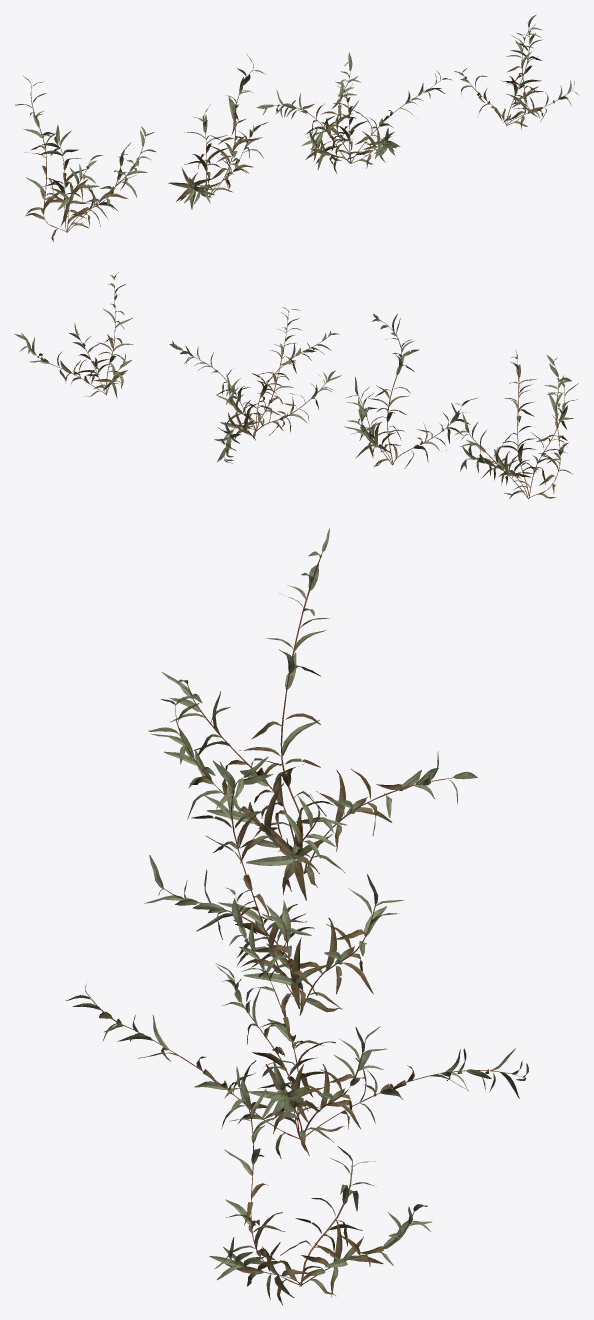
Rendered from shrub_02.glb.
3 renders of one model, top to bottom at view 1: azimuth 30°, elevation 25°; view 2: azimuth 150°, elevation 25°; view 3: azimuth 270°, elevation 25°, orthographic. The views are drawn at different scales.
Parts seen in each view (by area): view 1: shrub_02_a, shrub_02_c, shrub_02_b, shrub_02_d; view 2: shrub_02_a, shrub_02_c, shrub_02_b, shrub_02_d; view 3: shrub_02_a, shrub_02_c, shrub_02_b, shrub_02_d.
Part boxes in pixels (bbox=[...]): shrub_02_a: bbox=[15, 76, 155, 242]; shrub_02_c: bbox=[256, 52, 452, 173]; shrub_02_b: bbox=[168, 55, 267, 209]; shrub_02_d: bbox=[454, 14, 578, 129]; shrub_02_a: bbox=[454, 350, 578, 499]; shrub_02_c: bbox=[169, 307, 341, 463]; shrub_02_b: bbox=[344, 313, 477, 468]; shrub_02_d: bbox=[14, 272, 133, 398]; shrub_02_a: bbox=[148, 528, 477, 900]; shrub_02_c: bbox=[65, 887, 528, 1158]; shrub_02_b: bbox=[144, 757, 403, 1017]; shrub_02_d: bbox=[209, 1066, 431, 1305].
Bounding box in the file's own units: 6.04 × 1.7 × 2.29.
1 material, 1 textured.
